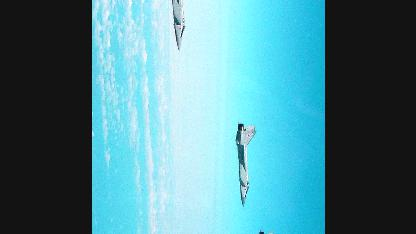Mig31: (235, 121, 256, 209), (166, 0, 192, 56)
